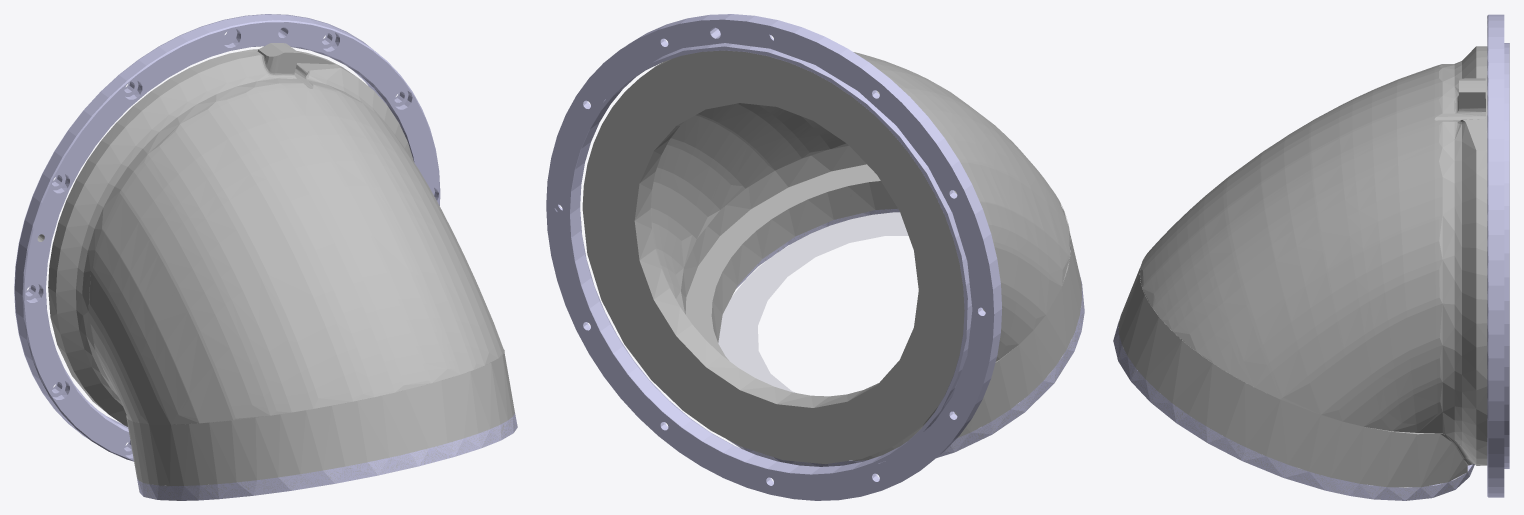
3 renders of one model, left to right at view 1: azimuth 30°, elevation 25°; view 2: azimuth 150°, elevation 25°; view 3: azimuth 270°, elevation 25°, orthographic. The views are drawn at different scales.
Visible parts, largest first — view 1: node; view 2: node; view 3: node.
Part boxes in pixels (left/top/right/bottom): node: left=14, top=14, right=517, bottom=500; node: left=546, top=14, right=1084, bottom=500; node: left=1113, top=14, right=1509, bottom=500.
Size of the model in its own units: 186 by 186 by 153.
